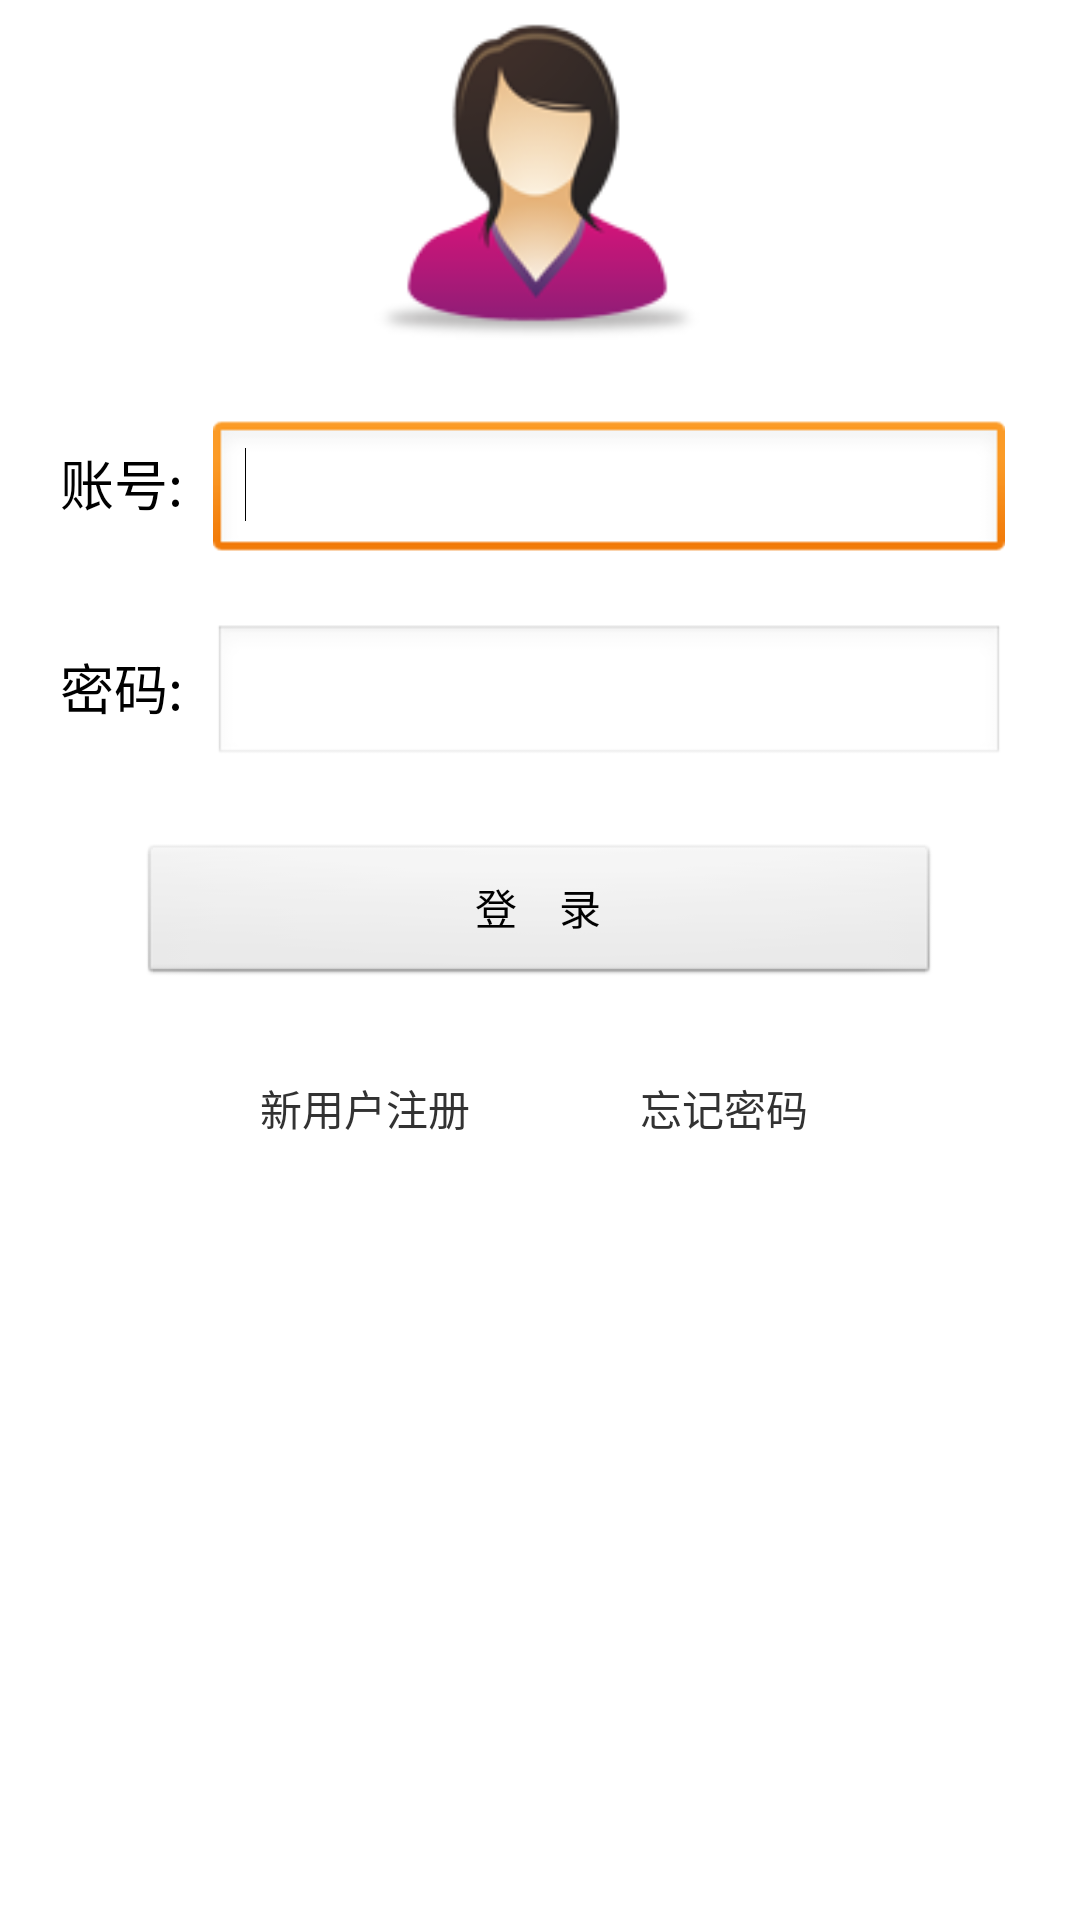

Icon click points for this 1080 x 1920 phone screenshot, format point (x, y):
head: point (537, 177)
